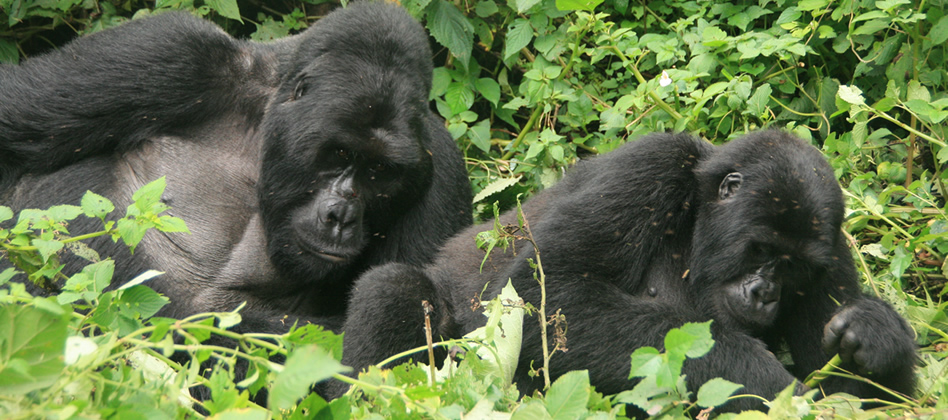Goriila: (1, 19, 456, 395), (415, 112, 901, 403)
